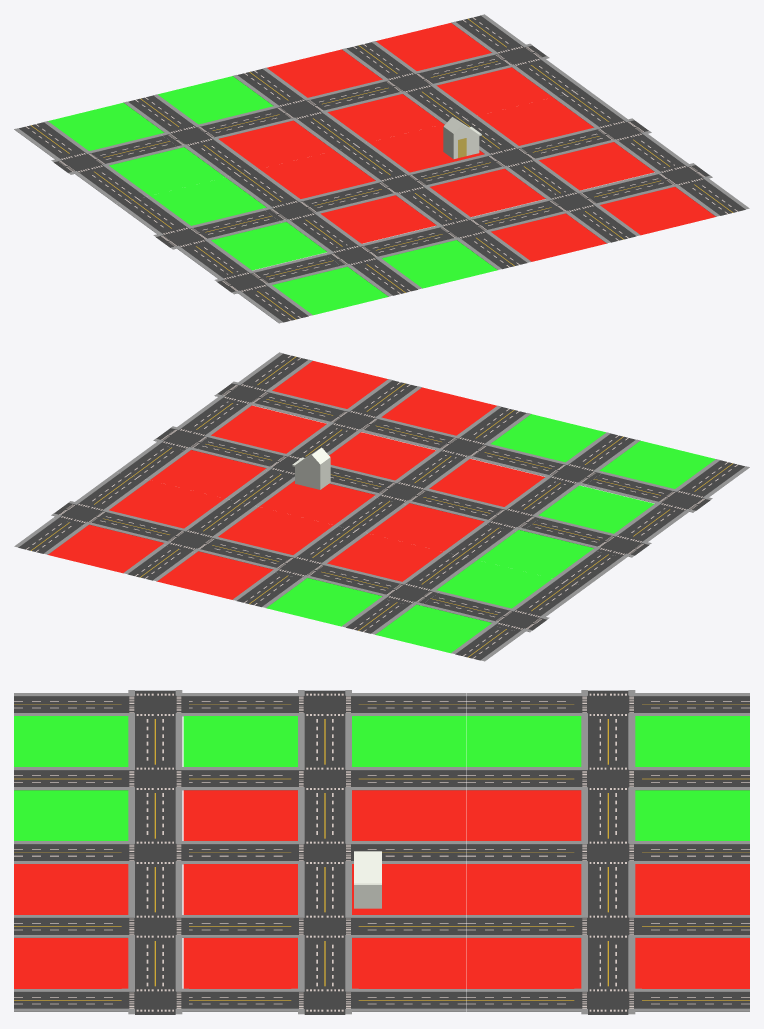
File: Bloomjoined.glb
3 views of the same model, one above another, from view 1: azimuth 30°, elevation 25°; view 2: azimuth 150°, elevation 25°; view 3: azimuth 270°, elevation 25° (orthographic). The views are drawn at different scales.
Visible parts, largest first — view 1: Straight Road.036, Plane.016, Plane.008, Plane.020, BOEDO, Plane.015, Plane.004, Plane.012, Plane.006, Plane.014, Plane.018, Plane.019 (+11 smaller); view 2: Straight Road.036, BOEDO, Plane.015, Plane.013, RECOLETA, Plane.011, Plane.005, Plane.001, Plane.008, Plane.016, Plane.020, Plane.004 (+11 smaller); view 3: Straight Road.036, Plane.001, Plane.002, RECOLETA, Plane.004, Plane.005, Plane.006, BOEDO, Plane.008, Plane.010, Plane.011, Plane.012 (+11 smaller).
Boxes of the visible parts, left/top/right/bottom form: Straight Road.036: left=14, top=14, right=749, bottom=323; Plane.016: left=211, top=222, right=326, bottom=270; Plane.008: left=109, top=147, right=224, bottom=195; Plane.020: left=272, top=266, right=388, bottom=315; BOEDO: left=48, top=102, right=164, bottom=150; Plane.015: left=150, top=177, right=266, bottom=225; Plane.004: left=437, top=67, right=552, bottom=115; Plane.012: left=539, top=142, right=654, bottom=190; Plane.006: left=219, top=120, right=334, bottom=168; Plane.014: left=321, top=195, right=436, bottom=243; Plane.018: left=600, top=187, right=715, bottom=235; Plane.019: left=382, top=240, right=497, bottom=288; Straight Road.036: left=14, top=352, right=749, bottom=661; BOEDO: left=375, top=604, right=491, bottom=653; Plane.015: left=477, top=530, right=593, bottom=578; Plane.013: left=368, top=503, right=484, bottom=551; RECOLETA: left=48, top=524, right=163, bottom=573; Plane.011: left=150, top=450, right=265, bottom=498; Plane.005: left=266, top=578, right=381, bottom=626; Plane.001: left=156, top=551, right=272, bottom=599; Plane.008: left=436, top=560, right=552, bottom=608; Plane.016: left=538, top=485, right=654, bottom=533; Plane.020: left=600, top=440, right=715, bottom=488; Plane.004: left=109, top=480, right=224, bottom=528; Straight Road.036: left=14, top=690, right=749, bottom=1014; Plane.001: left=635, top=864, right=749, bottom=914; Plane.002: left=467, top=864, right=581, bottom=914; RECOLETA: left=635, top=938, right=749, bottom=988; Plane.004: left=467, top=938, right=581, bottom=988; Plane.005: left=635, top=790, right=749, bottom=840; Plane.006: left=467, top=790, right=581, bottom=840; BOEDO: left=635, top=716, right=749, bottom=766; Plane.008: left=467, top=716, right=581, bottom=766; Plane.010: left=183, top=864, right=297, bottom=914; Plane.011: left=352, top=938, right=466, bottom=988; Plane.012: left=183, top=938, right=297, bottom=988.
Bounding box in the file's own units: 28.42 × 1.99 × 27.25.
